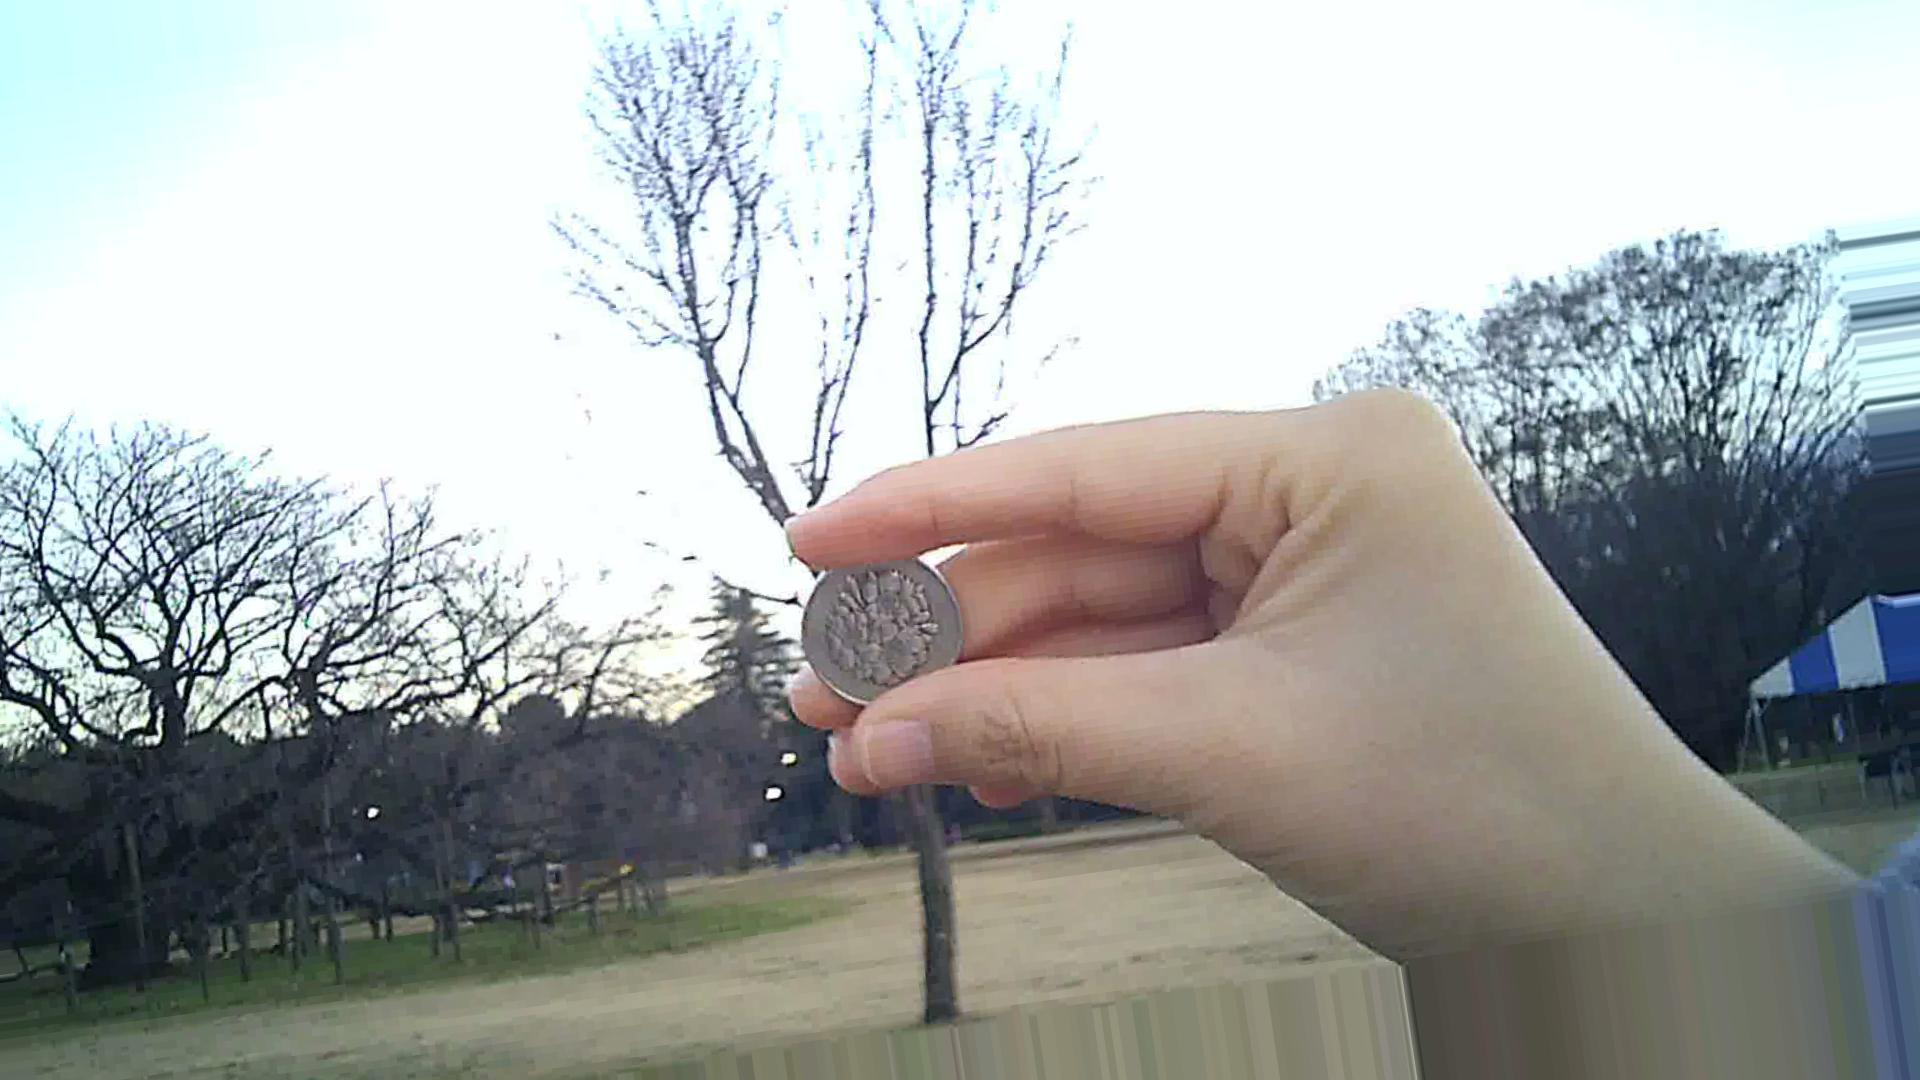100 Yen: (785, 538, 971, 698)
